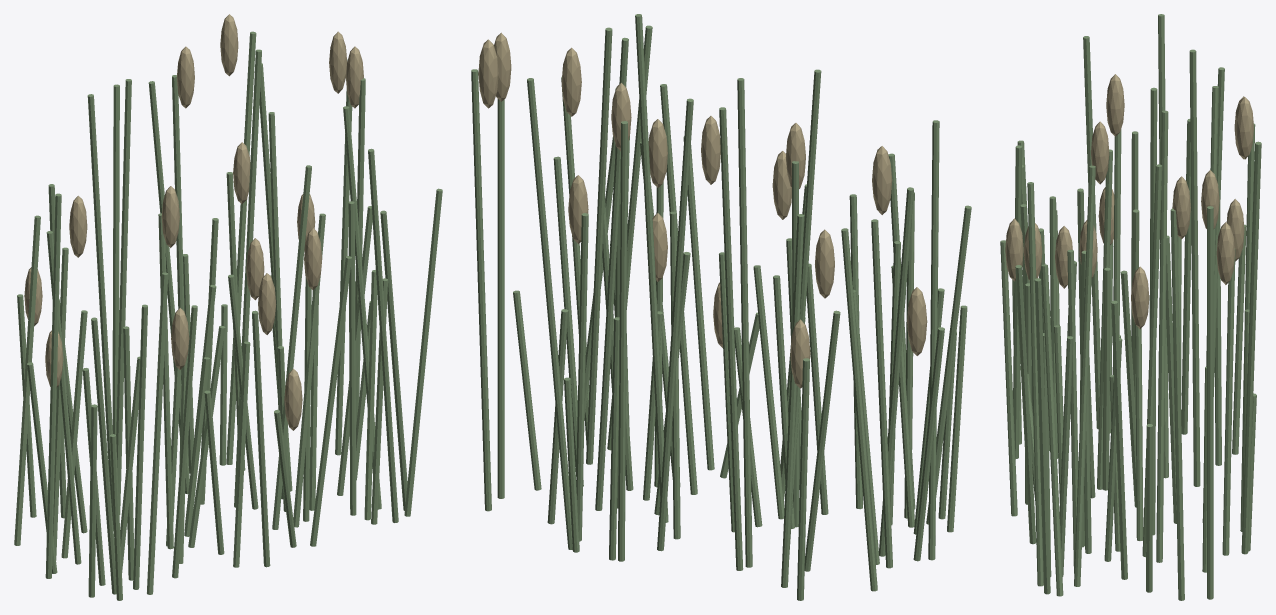
File: see_schilf.glb
3 views of the same model, side by side, from view 1: azimuth 30°, elevation 25°; view 2: azimuth 150°, elevation 25°; view 3: azimuth 270°, elevation 25° (orthographic). The views are drawn at different scales.
Visible parts, largest first — view 1: see_schilf_044, see_schilf_047, see_schilf_072, see_schilf_027, see_schilf_007, see_schilf_018, see_schilf_030, see_schilf_024, see_schilf_004, see_schilf_012, see_schilf_037, see_schilf_034 (+59 smaller); view 2: see_schilf_044, see_schilf_012, see_schilf_030, see_schilf_007, see_schilf_023, see_schilf_065, see_schilf_050, see_schilf_002, see_schilf_055, see_schilf_054, see_schilf_047, see_schilf_024 (+55 smaller); view 3: see_schilf_054, see_schilf_044, see_schilf_002, see_schilf_030, see_schilf_055, see_schilf_065, see_schilf_027, see_schilf_013, see_schilf_018, see_schilf_008, see_schilf_035, see_schilf_070 (+53 smaller).
Boxes of the visible parts, box(x1,y1,x2,y2) form: see_schilf_044: box(116, 79, 131, 514); see_schilf_047: box(45, 193, 61, 578); see_schilf_072: box(87, 94, 113, 530); see_schilf_027: box(368, 148, 398, 522); see_schilf_007: box(112, 84, 119, 434); see_schilf_018: box(404, 188, 442, 516); see_schilf_030: box(226, 31, 256, 464); see_schilf_024: box(14, 215, 40, 545); see_schilf_004: box(147, 272, 168, 594); see_schilf_012: box(234, 49, 261, 507); see_schilf_037: box(348, 201, 356, 515); see_schilf_034: box(272, 165, 311, 529); see_schilf_044: box(737, 78, 752, 567); see_schilf_012: box(635, 14, 668, 522); see_schilf_030: box(527, 78, 572, 549); see_schilf_007: box(719, 107, 743, 570); see_schilf_023: box(657, 98, 693, 551); see_schilf_065: box(471, 69, 491, 511); see_schilf_050: box(618, 121, 627, 561); see_schilf_002: box(586, 27, 612, 464); see_schilf_055: box(497, 99, 504, 498); see_schilf_054: box(595, 37, 628, 510); see_schilf_047: box(928, 120, 939, 560); see_schilf_024: box(841, 228, 877, 591); see_schilf_054: box(1156, 110, 1168, 562); see_schilf_044: box(1189, 49, 1200, 486); see_schilf_002: box(1074, 165, 1095, 586); see_schilf_030: box(1241, 141, 1261, 554); see_schilf_055: box(1170, 208, 1184, 600); see_schilf_065: box(1207, 206, 1213, 599); see_schilf_027: box(1027, 182, 1043, 586); see_schilf_013: box(1041, 264, 1063, 596); see_schilf_018: box(1034, 278, 1050, 594); see_schilf_008: box(1142, 164, 1162, 557); see_schilf_035: box(1222, 248, 1235, 555); see_schilf_070: box(1015, 265, 1036, 544).
Bounding box in the file's own units: 2.16 × 2.45 × 1.27.
